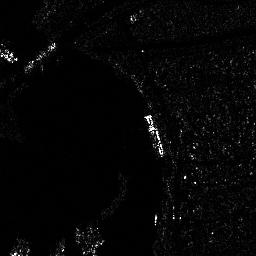ship: (143, 114, 165, 156), (24, 41, 55, 70)
